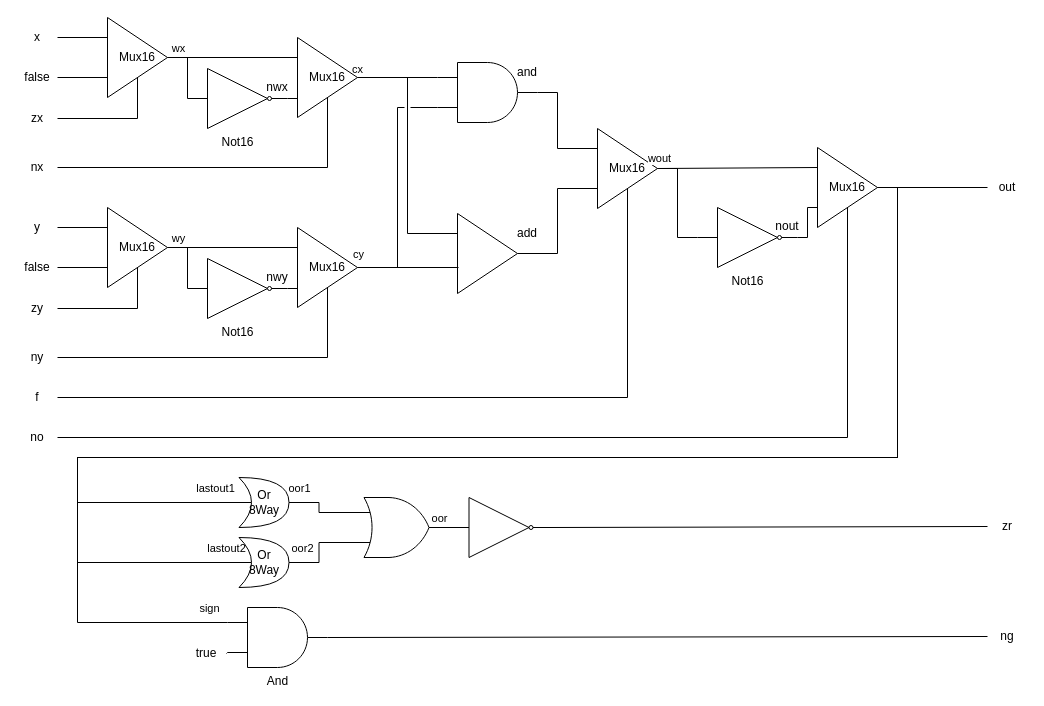
Some shapes in this 1044 by 706 pixel diagram are drawn without their labels. Here are the shapes that lost their labels. From the top down, the box of each, then its label:
(436, 62, 538, 122): And16
(456, 212, 518, 294): Add16
